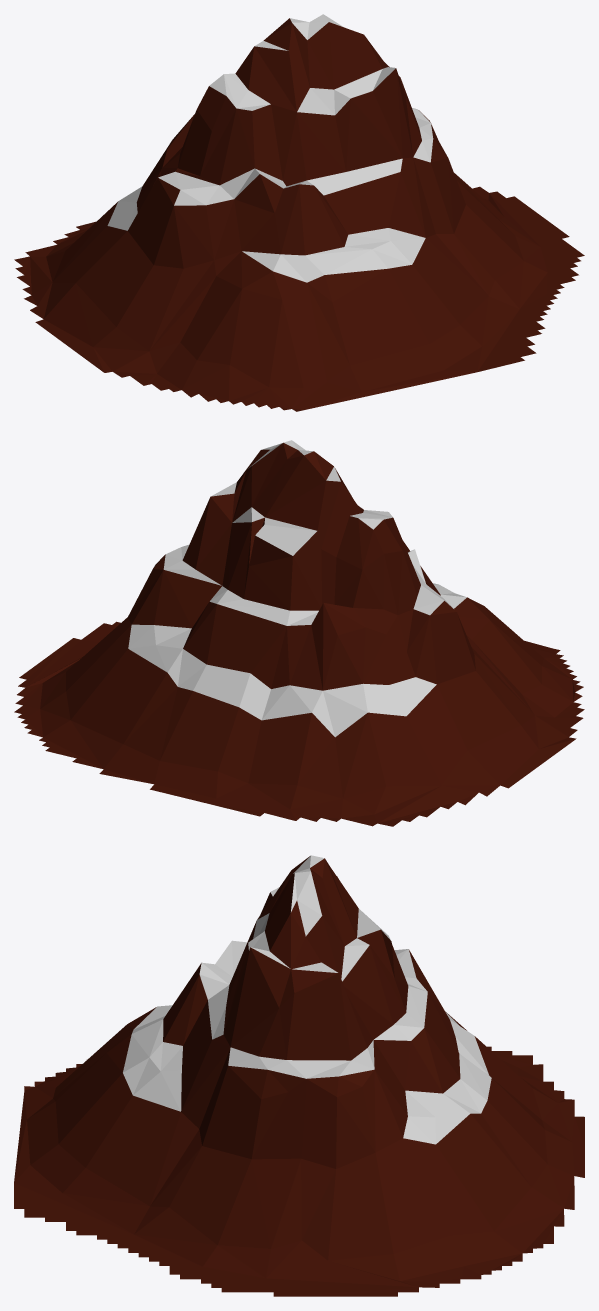
The model's file is Mountain_1_Snow_LOD_Medium.obj.
The picture shows the model from 3 angles, top to bottom: view 1: azimuth 30°, elevation 25°; view 2: azimuth 150°, elevation 25°; view 3: azimuth 270°, elevation 25°; orthographic projection. The views are drawn at different scales.
Visible parts, largest first — view 1: Mountain_1_Snow_LOD_Medium_Plane.046; view 2: Mountain_1_Snow_LOD_Medium_Plane.046; view 3: Mountain_1_Snow_LOD_Medium_Plane.046.
Boxes of the visible parts, x1,y1,x2,y2 form: Mountain_1_Snow_LOD_Medium_Plane.046: (14,14,584,411); Mountain_1_Snow_LOD_Medium_Plane.046: (14,440,584,826); Mountain_1_Snow_LOD_Medium_Plane.046: (14,855,584,1296).
Bounding box in the file's own units: 107 × 56.16 × 96.69.
